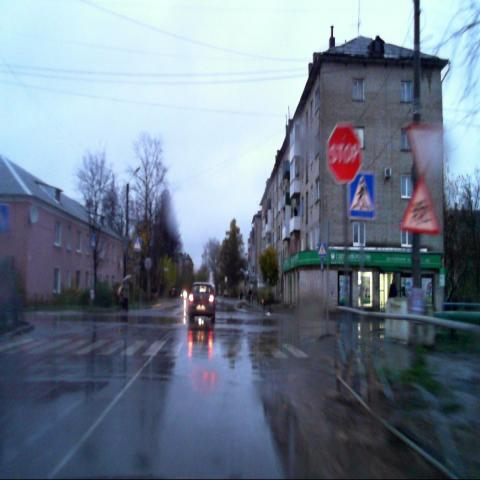2_5: (326, 124, 362, 185)
